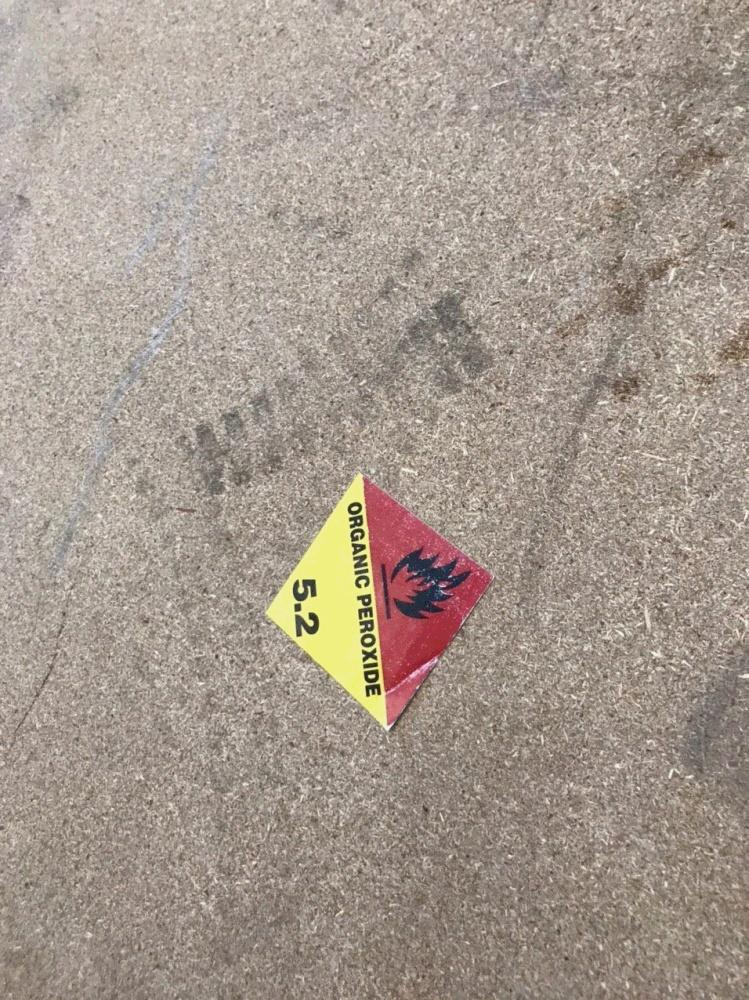organic-peroxide: (262, 471, 495, 737)
